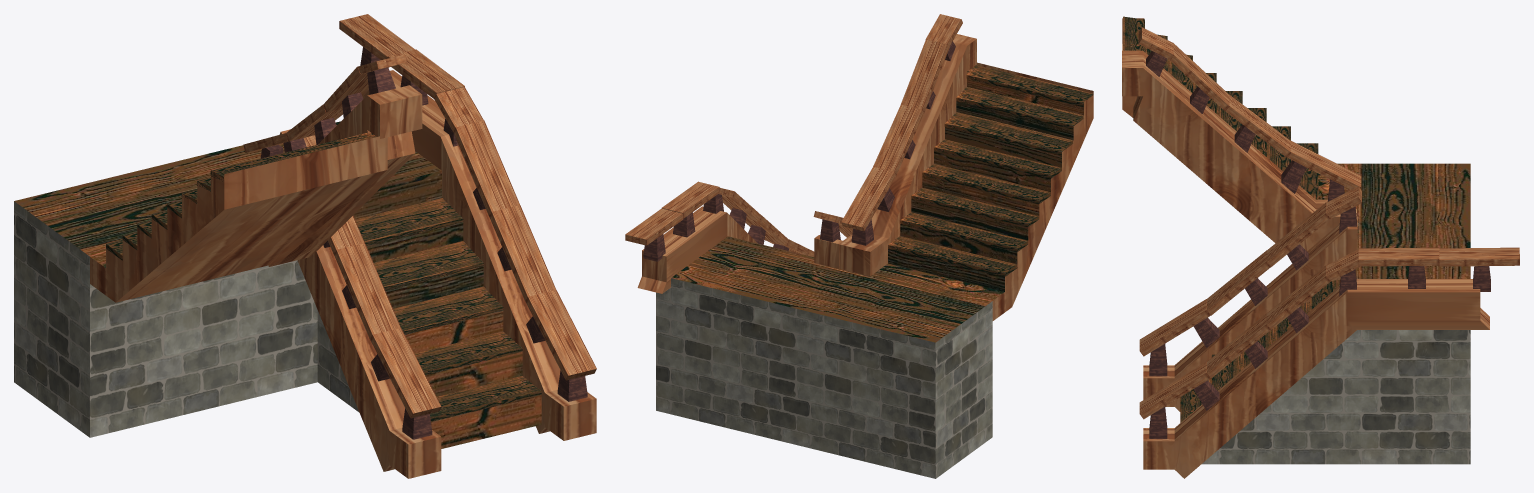
File: stairs.glb
The picture shows the model from 3 angles, left to right: view 1: azimuth 30°, elevation 25°; view 2: azimuth 150°, elevation 25°; view 3: azimuth 270°, elevation 25°; orthographic projection. The views are drawn at different scales.
Visible parts, largest first — view 1: schodymur-col, schody-col, poreczzz1-col.001, 1porecz-col.001, polpietro-col, podstopnie, 1porecz-col, poreczzz1-col, 2porecz-col, poreczzcz20col, podstopien11-col, stopien5-col (+7 smaller); view 2: schodymur-col, polpietro-col, podstopnie, 2porecz-col, poreczzcz20col, schody-col, 1porecz-col.001, poreczzz1-col.001, stopien11-col, stopien12-col, stopien13-col, stopien6-col (+8 smaller); view 3: schodymur-col, 1porecz-col.001, 2porecz-col, polpietro-col, poreczzz1-col, poreczzz1-col.001, poreczzcz20col, 1porecz-col, Cube.002, Cube.003, stopien13-col, stopien6-col (+4 smaller).
Part boxes in pixels (bbox=[...]): schodymur-col: bbox=[14, 201, 359, 437]; schody-col: bbox=[90, 136, 387, 302]; poreczzz1-col.001: bbox=[434, 87, 596, 401]; 1porecz-col.001: bbox=[362, 70, 596, 440]; polpietro-col: bbox=[14, 121, 441, 267]; podstopnie: bbox=[197, 175, 522, 396]; 1porecz-col: bbox=[297, 245, 441, 478]; poreczzz1-col: bbox=[279, 129, 441, 439]; 2porecz-col: bbox=[268, 85, 422, 266]; poreczzcz20col: bbox=[243, 54, 406, 158]; podstopien11-col: bbox=[431, 395, 541, 448]; stopien5-col: bbox=[373, 241, 483, 290]; schodymur-col: bbox=[656, 278, 992, 478]; polpietro-col: bbox=[671, 236, 1004, 342]; podstopnie: bbox=[888, 79, 1083, 291]; 2porecz-col: bbox=[839, 34, 976, 276]; poreczzcz20col: bbox=[841, 14, 962, 245]; schody-col: bbox=[963, 62, 1093, 320]; 1porecz-col.001: bbox=[637, 206, 757, 293]; poreczzz1-col.001: bbox=[703, 188, 814, 256]; stopien11-col: bbox=[944, 112, 1073, 155]; stopien12-col: bbox=[956, 87, 1083, 129]; stopien13-col: bbox=[966, 65, 1093, 107]; stopien6-col: bbox=[888, 236, 1017, 276]; schodymur-col: bbox=[1202, 330, 1470, 464]; 1porecz-col.001: bbox=[1143, 279, 1489, 478]; 2porecz-col: bbox=[1122, 50, 1356, 250]; polpietro-col: bbox=[1318, 163, 1470, 278]; poreczzz1-col: bbox=[1139, 186, 1361, 376]; poreczzz1-col.001: bbox=[1139, 249, 1359, 438]; poreczzcz20col: bbox=[1138, 27, 1361, 201]; 1porecz-col: bbox=[1143, 216, 1357, 411]; Cube.002: bbox=[1358, 247, 1439, 266]; Cube.003: bbox=[1439, 247, 1519, 266]; stopien13-col: bbox=[1123, 16, 1144, 51]; stopien6-col: bbox=[1291, 143, 1318, 199].
Size of what is drawn, in the model's own units: 6 by 6.51 by 6.47.
Materials: 10 (10 with a texture image).
